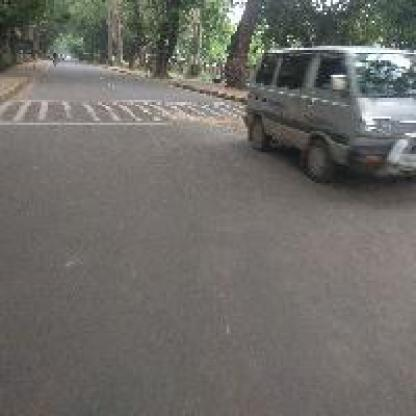Speed Bump: (0, 92, 233, 131)
